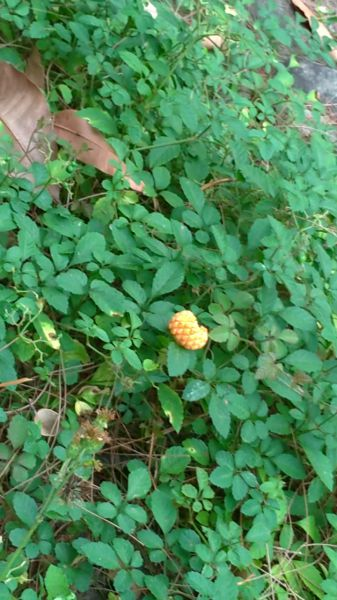eggs: (162, 306, 211, 356)
